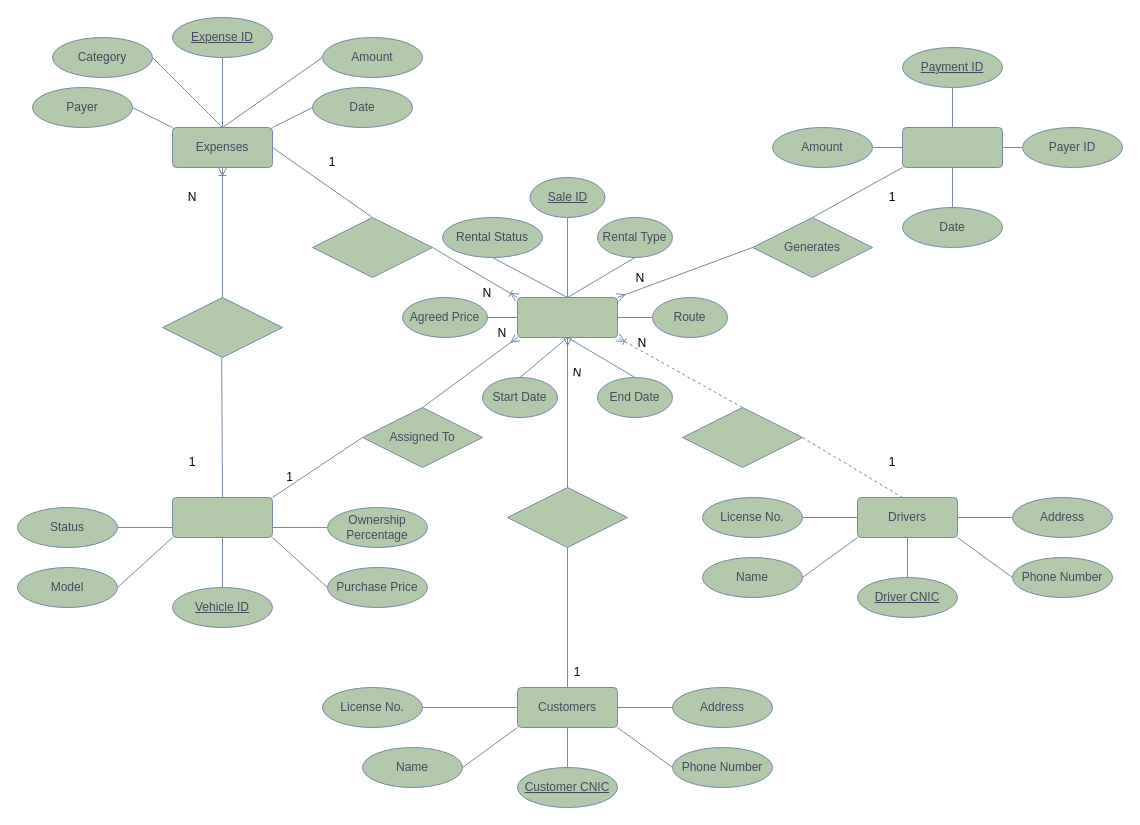
Image size: 1140x825. Some labels were removed from this diagram. The shapes that lost their labels are listed below. From the top down, each one's centre as x and y in pixels, then its label:
At (x=952, y=147): "Payment".
At (x=372, y=247): "Incurs".
At (x=222, y=327): "Requires".
At (x=567, y=317): "Sales".
At (x=742, y=437): "Operates".
At (x=222, y=517): "Vehicles".
At (x=567, y=517): "Initiates".
